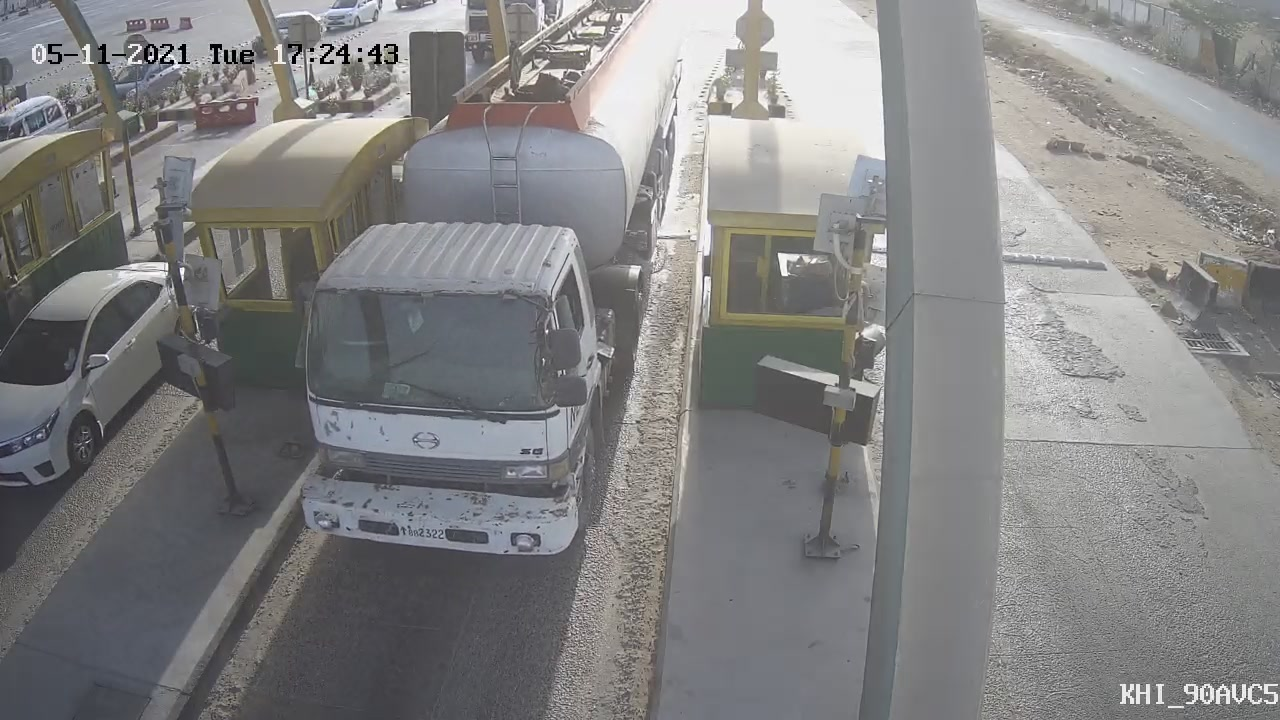F6: (250, 4, 708, 588)
